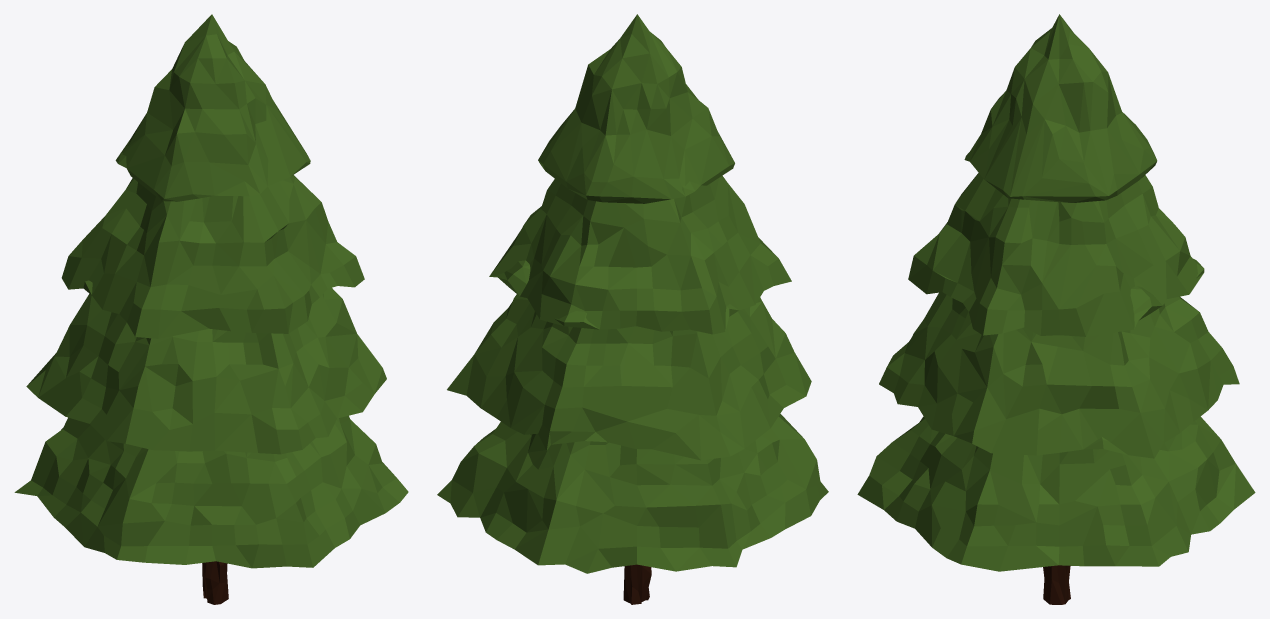
The model's file is Arbol 2.fbx.
The picture shows the model from 3 angles, left to right: view 1: azimuth 30°, elevation 25°; view 2: azimuth 150°, elevation 25°; view 3: azimuth 270°, elevation 25°; orthographic projection.
Parts seen in each view (by area): view 1: Arbol 2_LOD0; view 2: Arbol 2_LOD0; view 3: Arbol 2_LOD0.
Boxes of the visible parts, x1,y1,x2,y2 form: Arbol 2_LOD0: (14, 14, 408, 604); Arbol 2_LOD0: (437, 14, 828, 604); Arbol 2_LOD0: (857, 14, 1255, 604).
Size of what is drawn, in the model's own units: 171 by 314 by 193.
